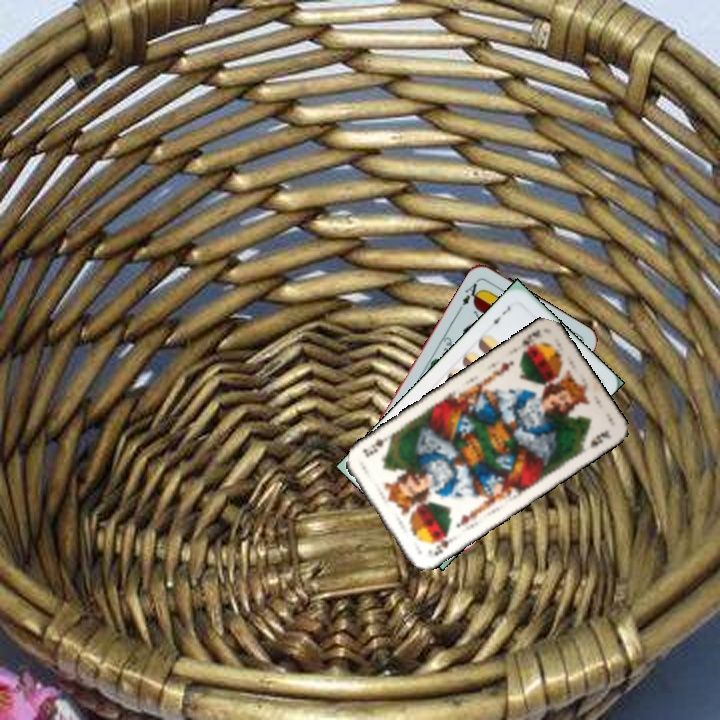E7: (485, 302, 513, 329)
EA: (454, 276, 484, 313)
SK: (516, 325, 543, 358), (428, 530, 458, 559)
